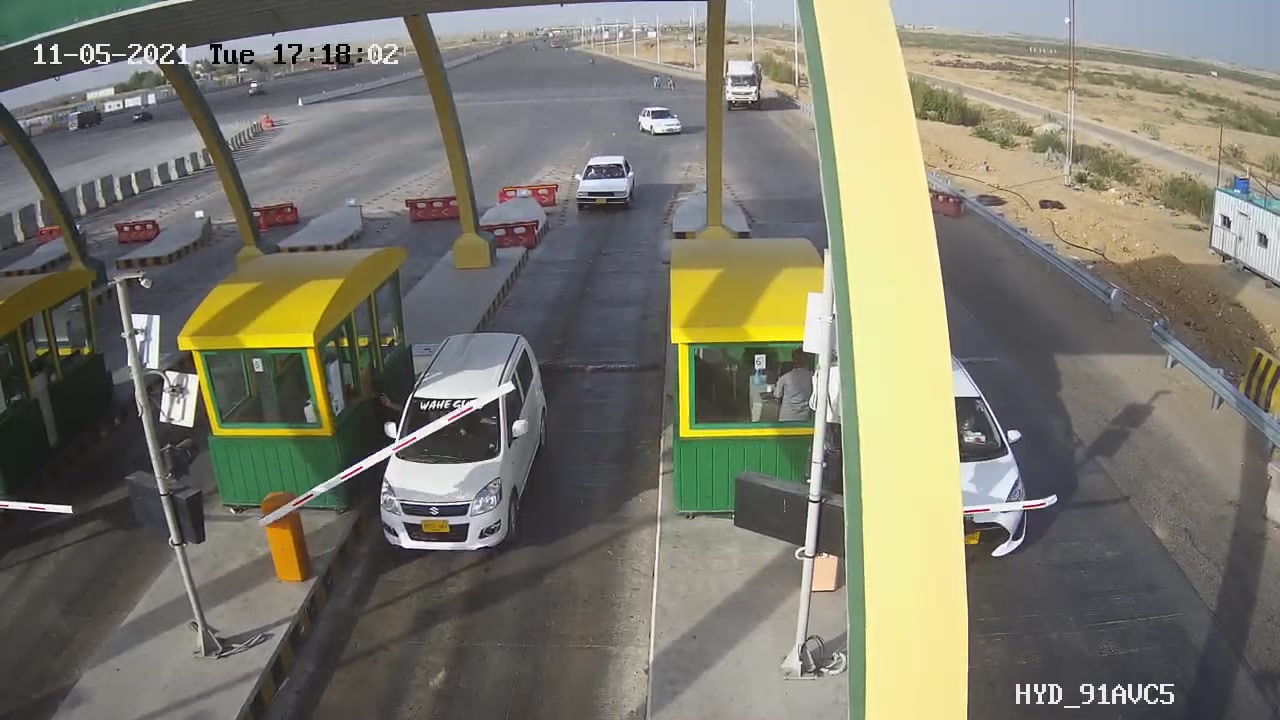F1: (366, 318, 566, 574)
